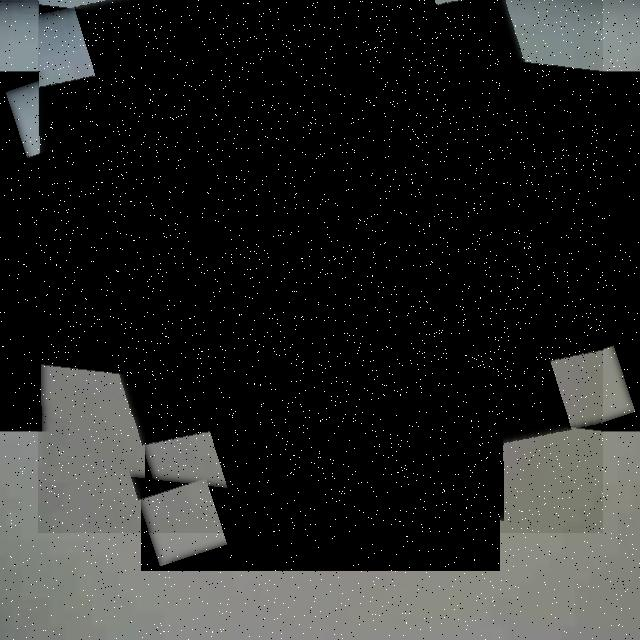dua puluh ribu rupiah: (38, 0, 603, 533)
